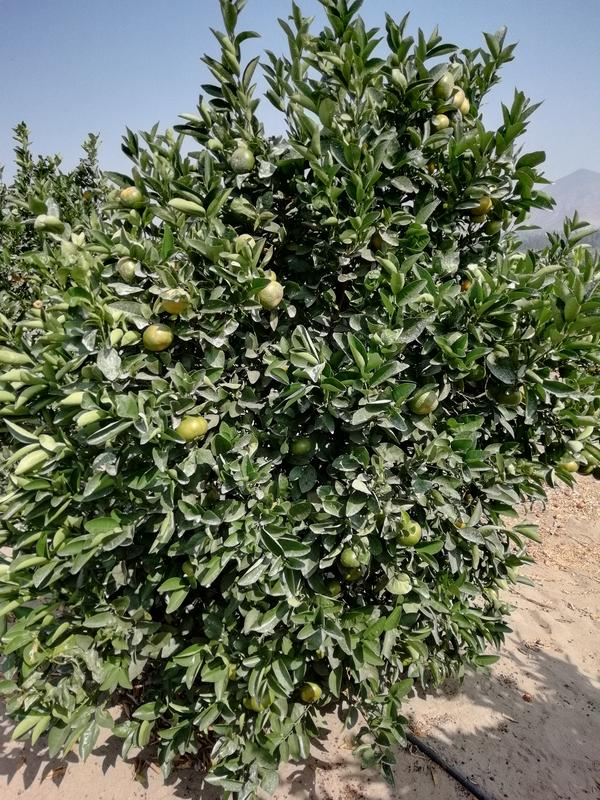mandarina verde: (143, 323, 173, 351), (178, 417, 208, 440), (230, 147, 255, 174), (259, 282, 283, 310), (115, 256, 137, 285), (412, 391, 438, 415), (297, 681, 324, 704), (432, 73, 455, 98), (400, 520, 422, 546), (119, 186, 143, 208), (340, 548, 361, 569), (291, 440, 311, 456), (452, 86, 465, 107)
